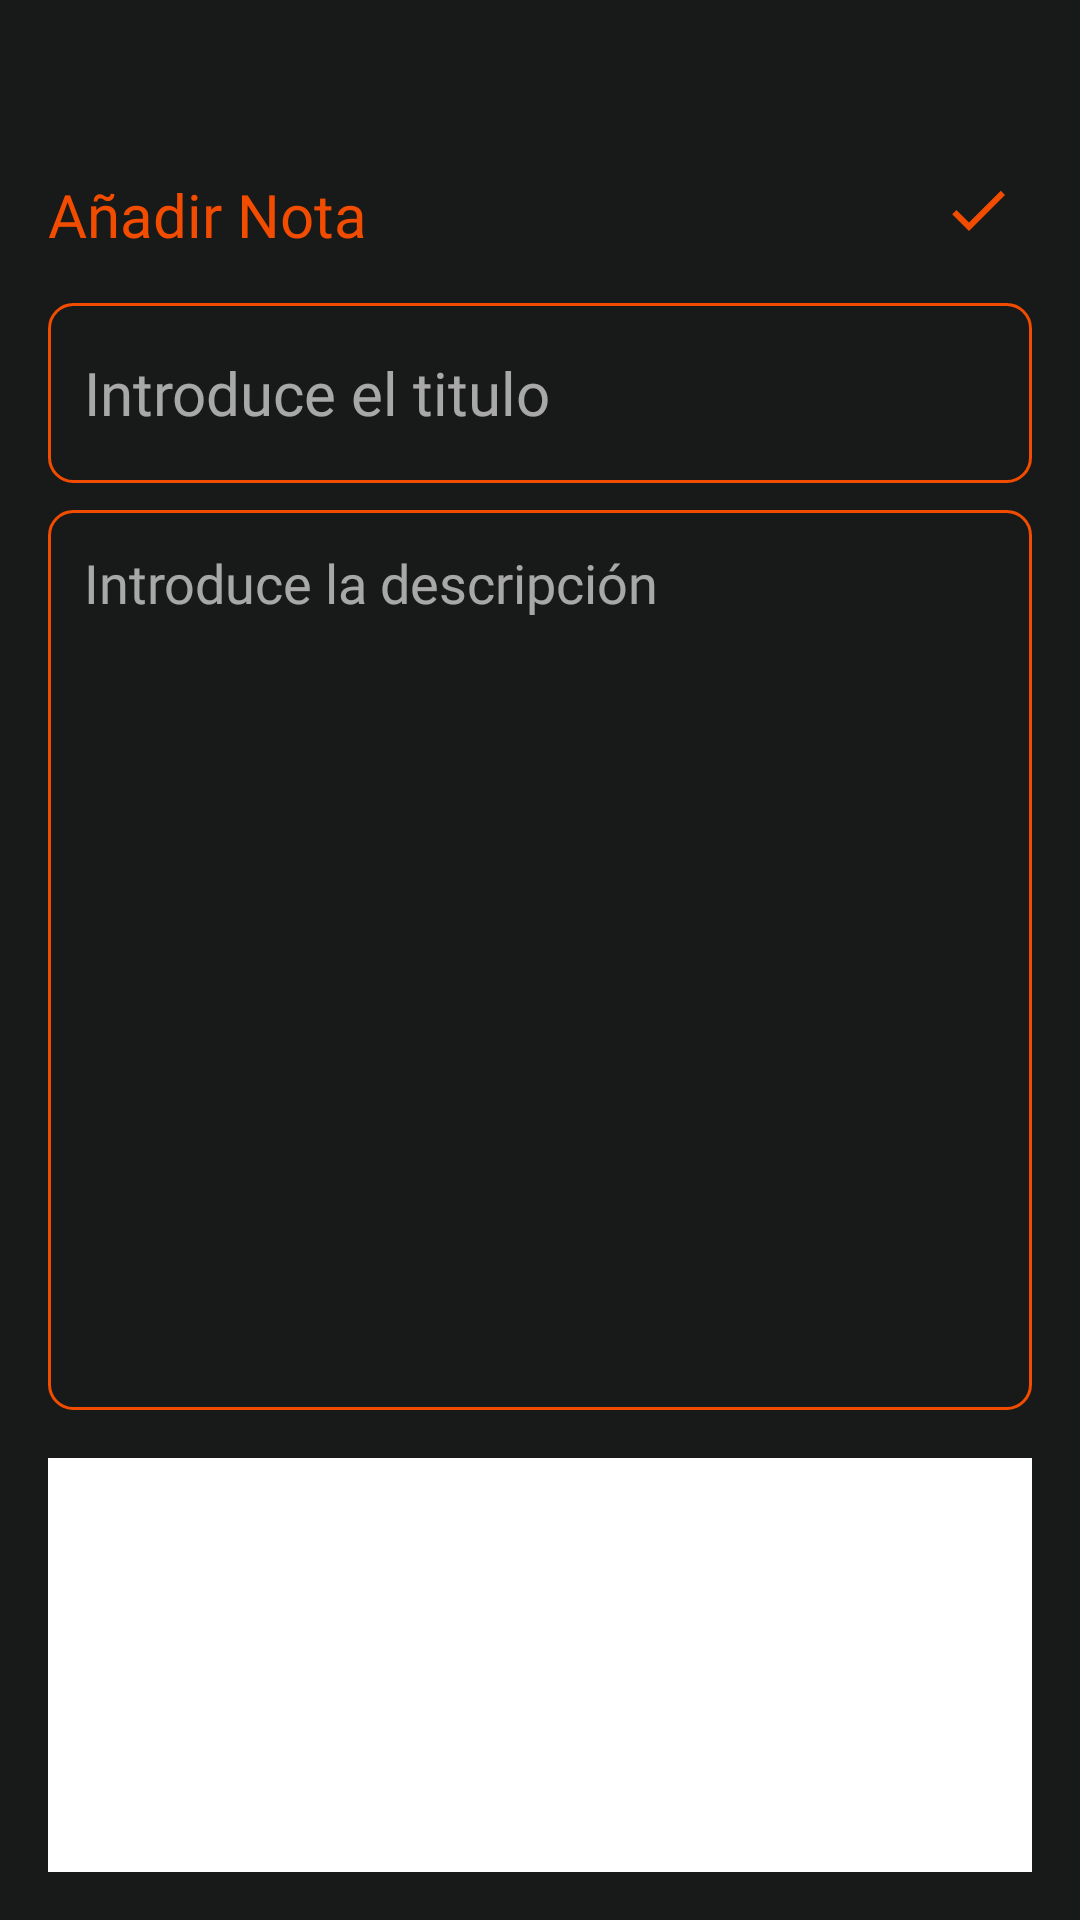

Screen size 1080 x 1920. Icon name, then its center in pixels as (x=x, y=y):
done: (x=978, y=211)
